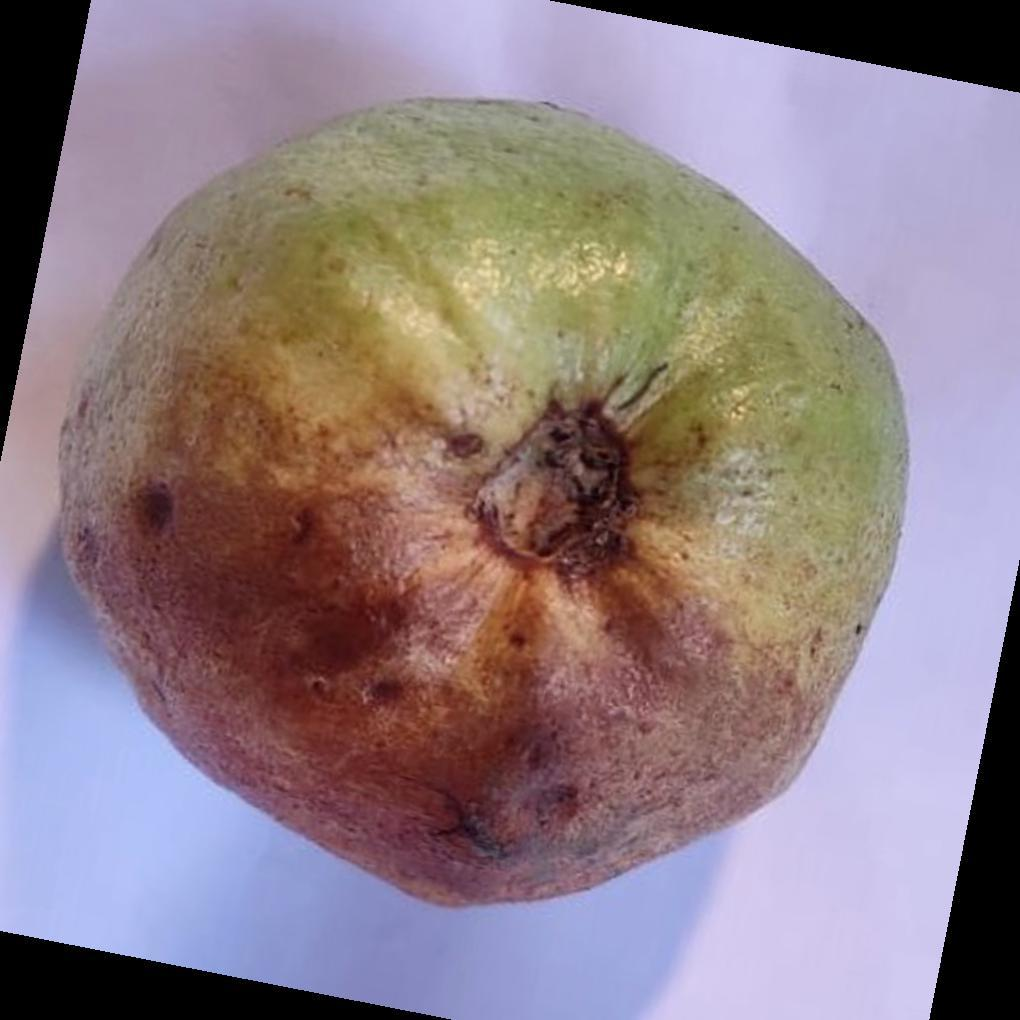FreshOrange: (56, 98, 910, 914)
